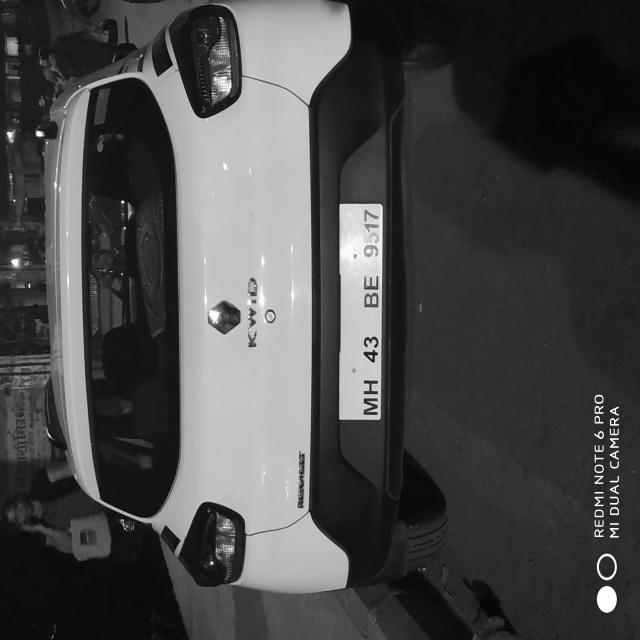car: (32, 47, 480, 608)
license-plate: (162, 450, 328, 521)
